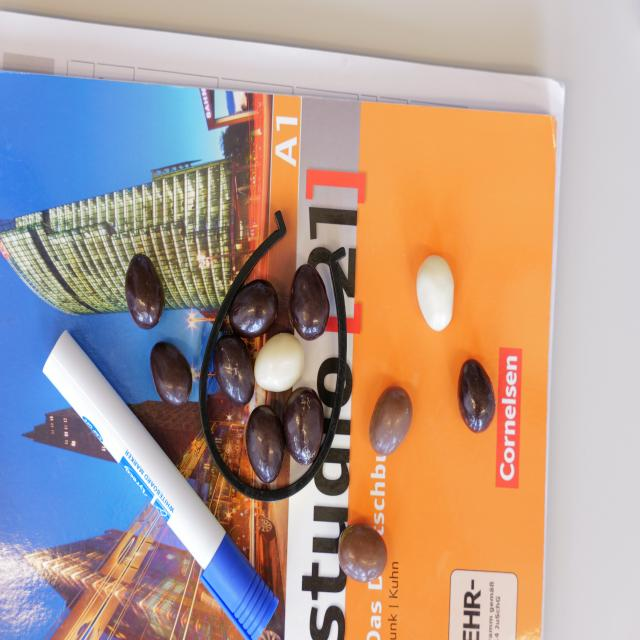Jelly_Black: (150, 338, 193, 410), (125, 251, 164, 329), (286, 386, 324, 464), (214, 334, 256, 404), (292, 262, 329, 340), (249, 405, 284, 483), (460, 357, 496, 431), (233, 280, 279, 336)
Jelly_Milk: (338, 522, 388, 578), (370, 388, 410, 452)
Jelly_White: (418, 256, 457, 329), (256, 336, 304, 392)
